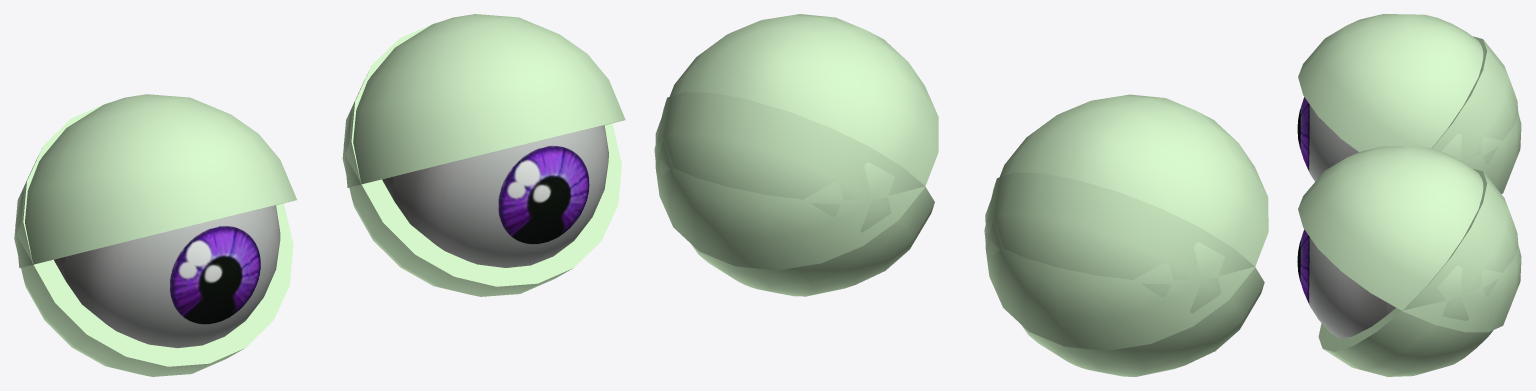
File: chicaOjos.fbx
3 renders of one model, left to right at view 1: azimuth 30°, elevation 25°; view 2: azimuth 150°, elevation 25°; view 3: azimuth 270°, elevation 25°, orthographic. The views are drawn at different scales.
Parts seen in each view (by area): view 1: chica_CH.003; view 2: chica_CH.003; view 3: chica_CH.003.
Boxes of the visible parts, left/top/right/bottom form: chica_CH.003: left=14, top=14, right=625, bottom=376; chica_CH.003: left=654, top=14, right=1268, bottom=376; chica_CH.003: left=1297, top=14, right=1521, bottom=376.
Bounding box in the file's own units: 27.55 × 11.56 × 11.18.
